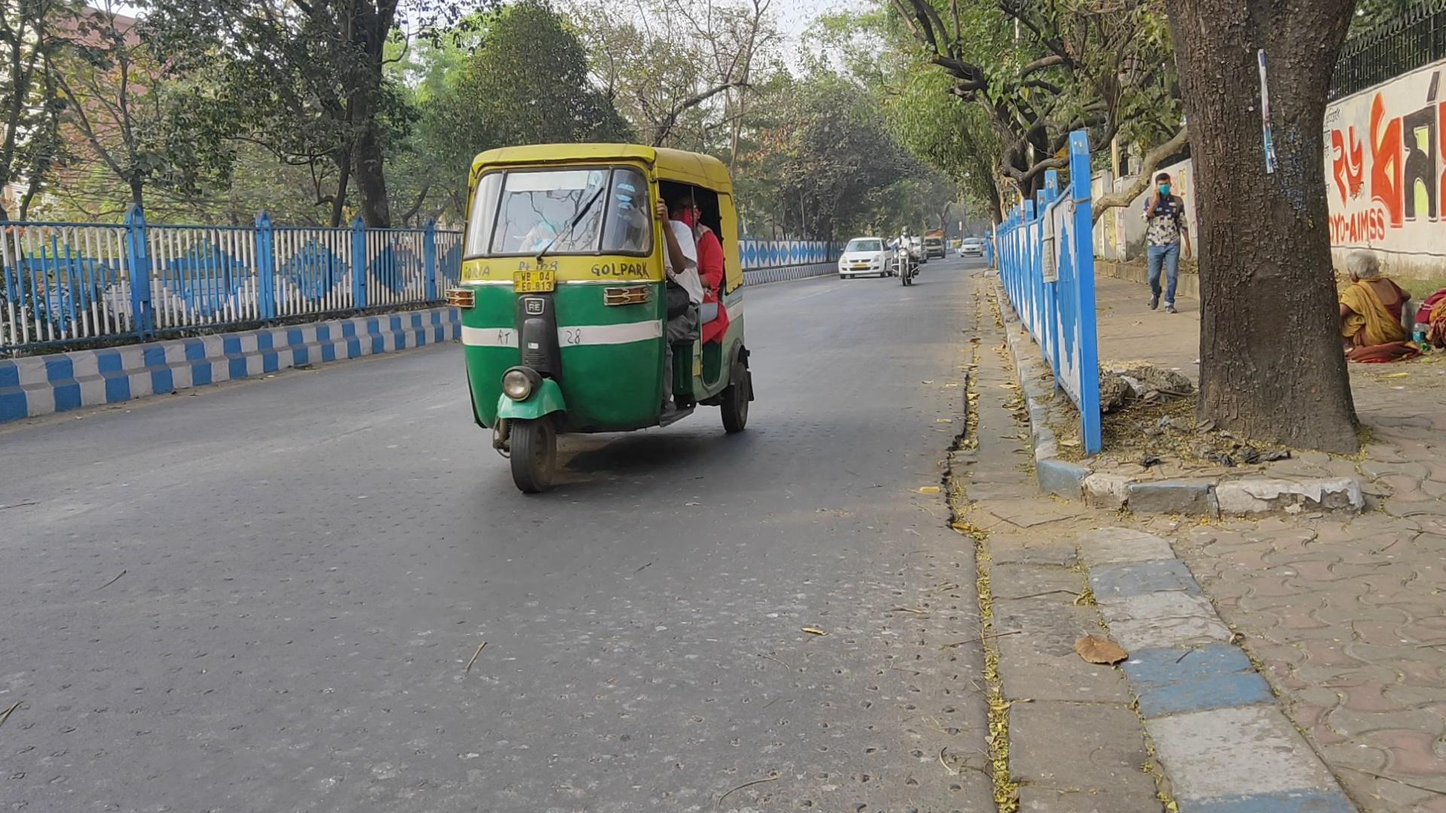Auto: (456, 140, 755, 495)
bike: (890, 224, 920, 285)
car: (834, 235, 892, 279), (959, 236, 986, 260)
van: (922, 228, 948, 259)
